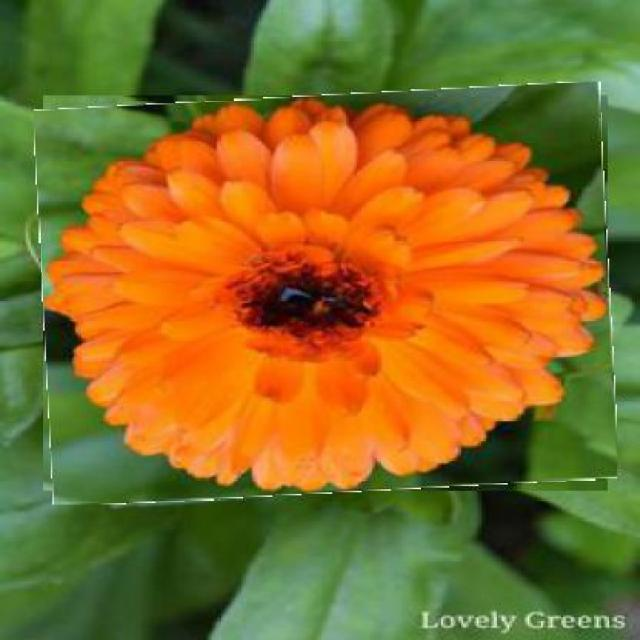Flower: (38, 89, 614, 500)
